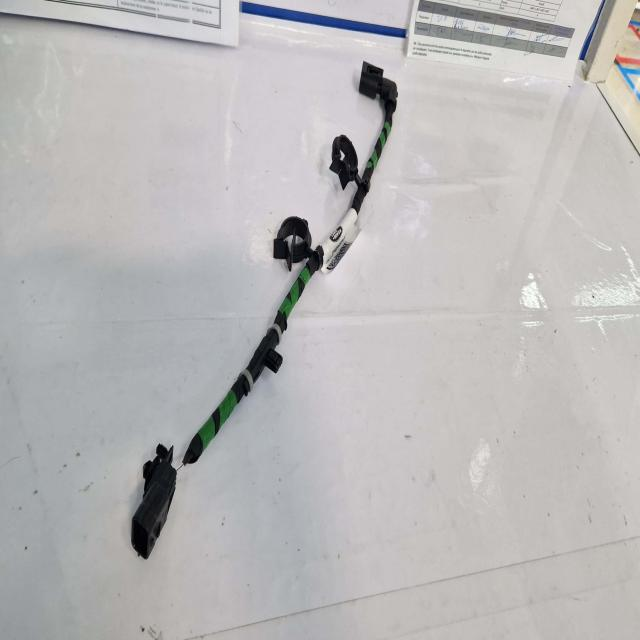AJ20_D6_Cable: (184, 62, 398, 460)
Clip: (330, 135, 368, 190), (274, 215, 312, 268), (146, 442, 176, 484)
Connector: (133, 461, 177, 559), (359, 59, 398, 105)
Info: (321, 202, 373, 273)
strap: (240, 365, 254, 388), (270, 318, 281, 341)
